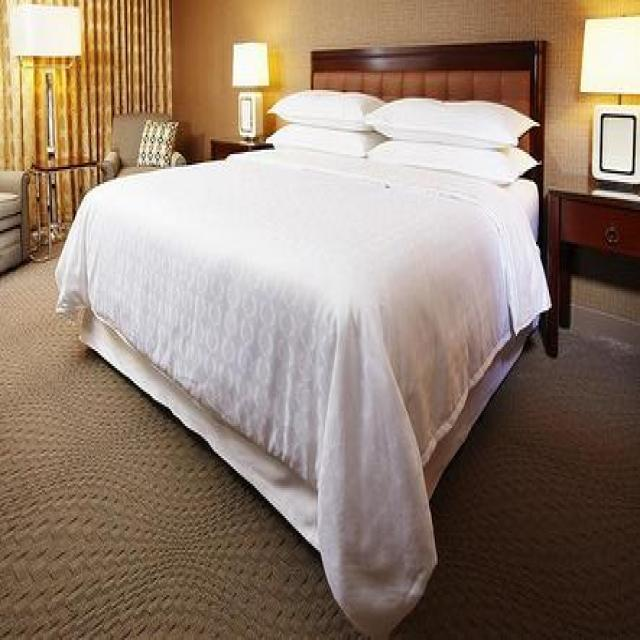bed: (53, 38, 550, 638)
